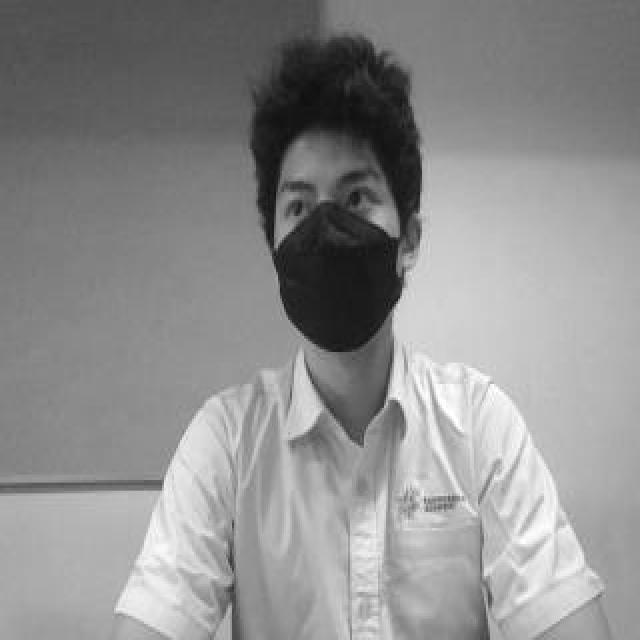Focused: (270, 134, 406, 366)
